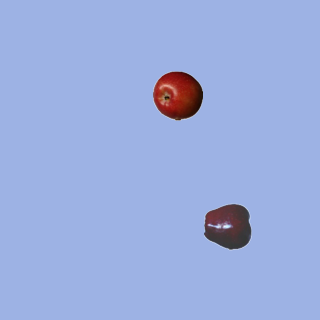Apple Braeburn: (152, 70, 202, 120)
Apple Red Delicious: (203, 201, 253, 251)
